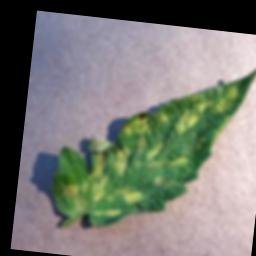Leaf_Mold: (82, 149, 111, 203), (144, 139, 189, 172), (171, 98, 207, 137), (119, 108, 153, 137), (110, 143, 134, 182), (211, 83, 238, 117), (60, 183, 89, 214), (119, 184, 146, 206)
